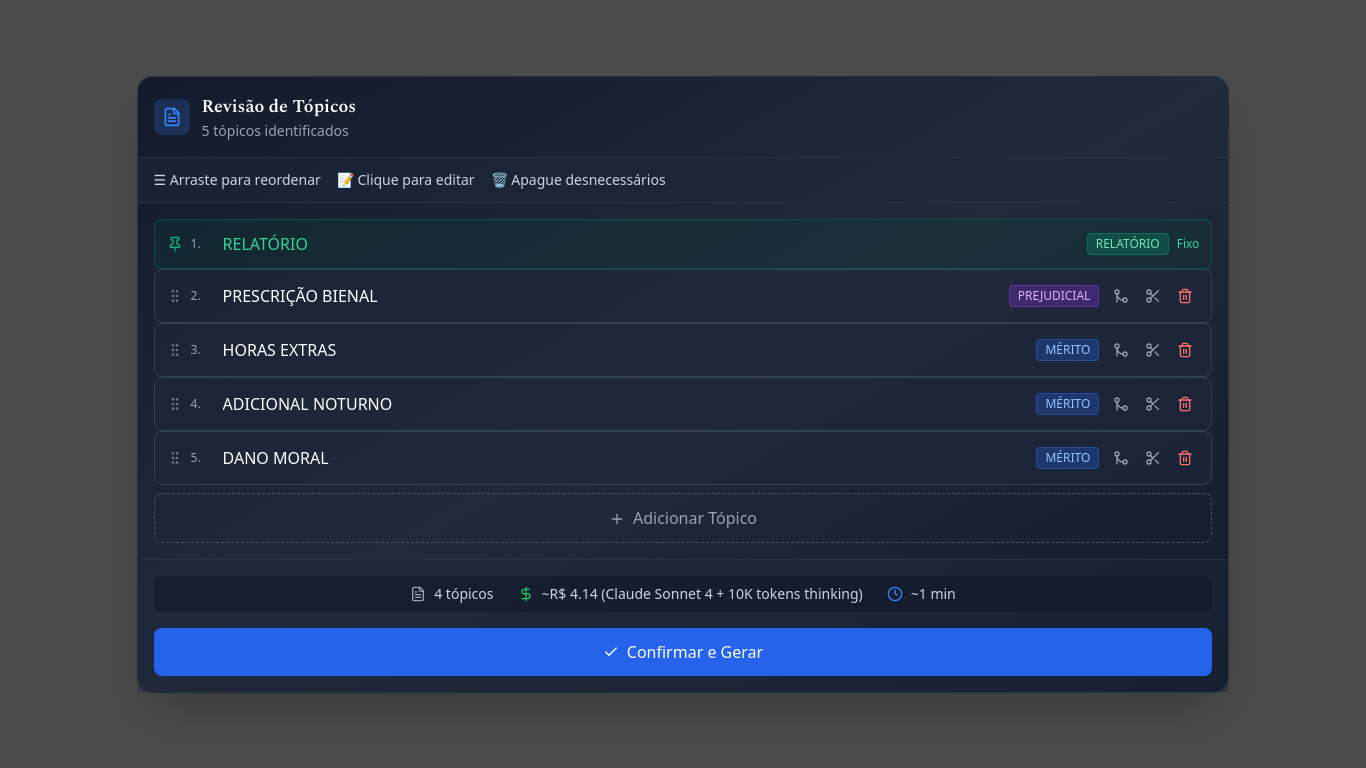
Scenario: TopicCurationModal - Mesclagem › deve abrir confirmação de merge ao clicar em mesclar
This screenshot has width=1366, height=768.
What coordinates should you click on to do the following:
click the button titled "Selecionar para mesclar" in the row of "HORAS EXTRAS"
I would click on:
 (1121, 350)
Its box is [1107,336,1135,364].
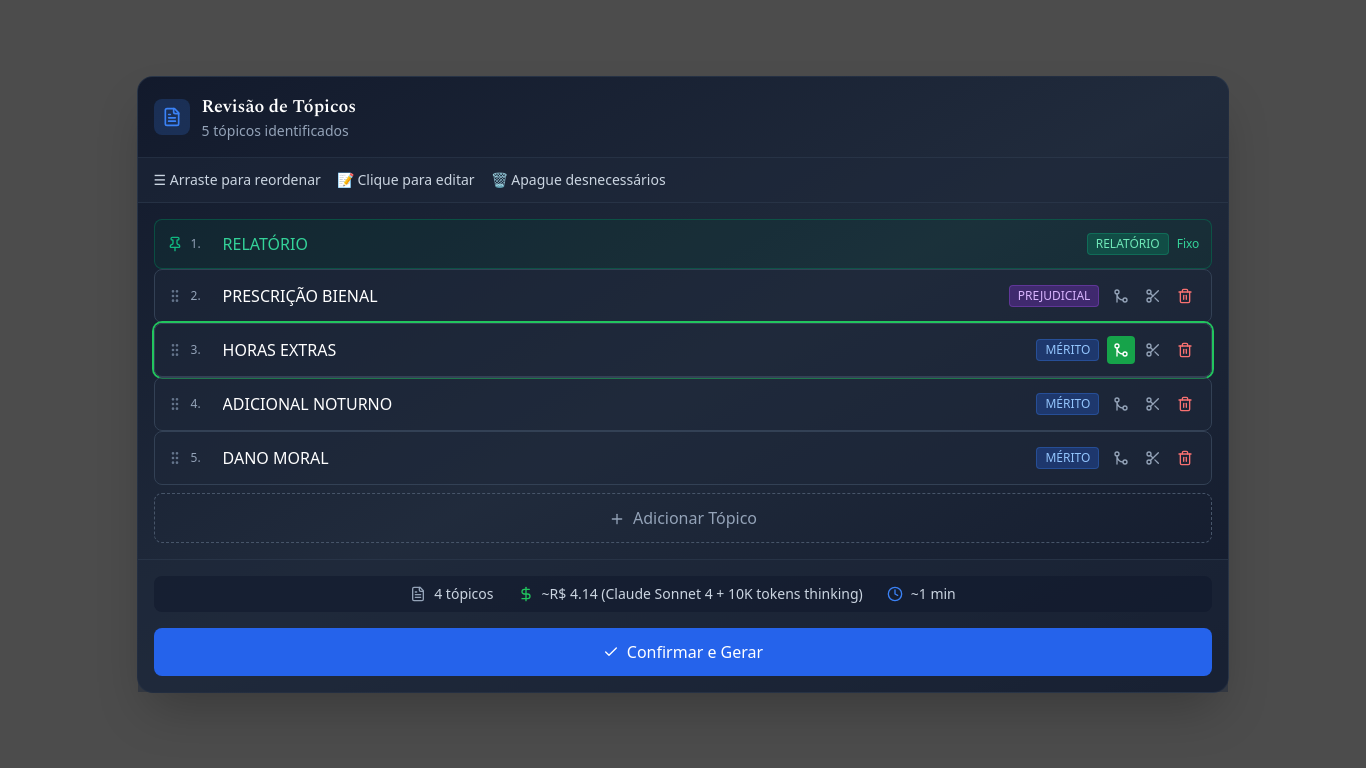
What coordinates should you click on to do the following:
click the button titled "Selecionar para mesclar" in the row of "ADICIONAL NOTURNO"
I would click on:
 (1121, 404)
Its box is [1107,390,1135,418].
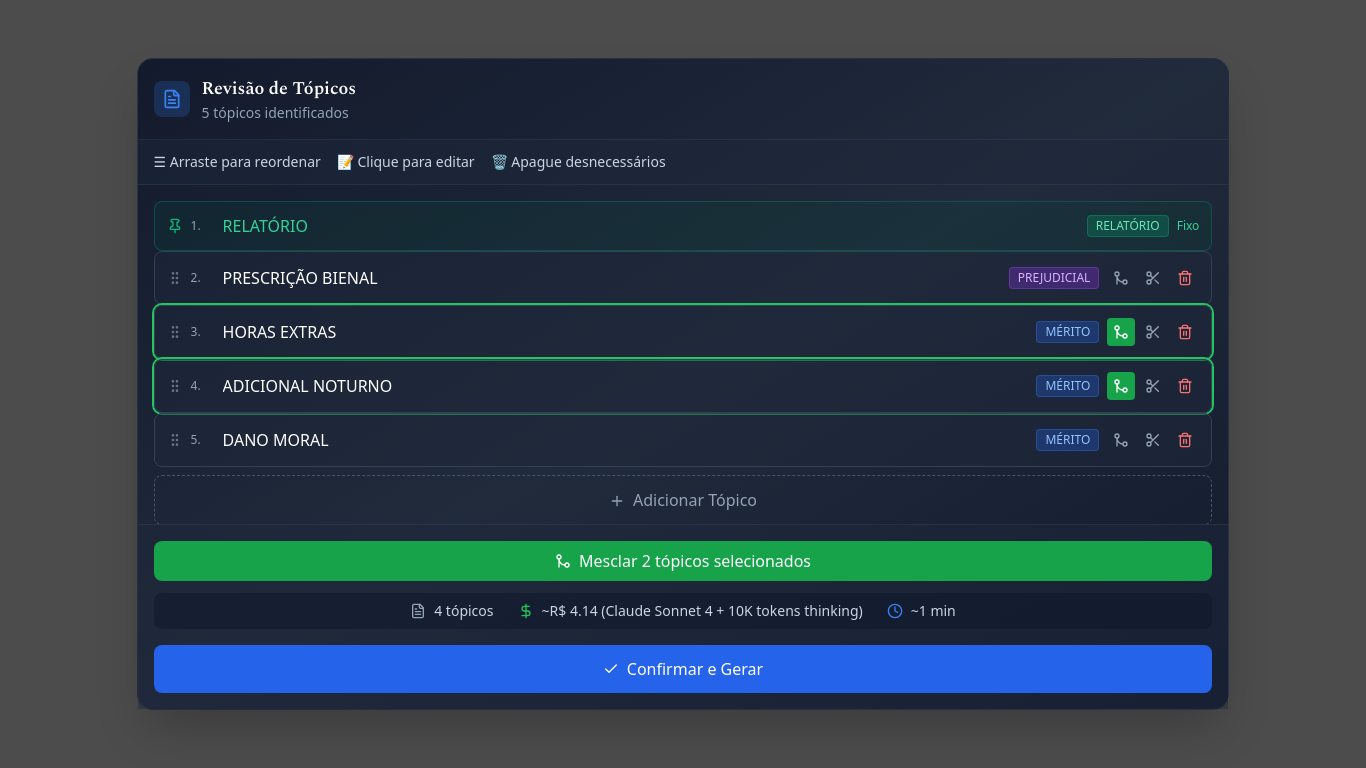
Result: the button "Mesclar 2 tópicos selecionados" is shown
Clicar no botão de mesclar
What coordinates should you click on to do the following:
click the button "Mesclar 2 tópicos selecionados"
I would click on:
 (683, 561)
Its box is [154,541,1212,581].
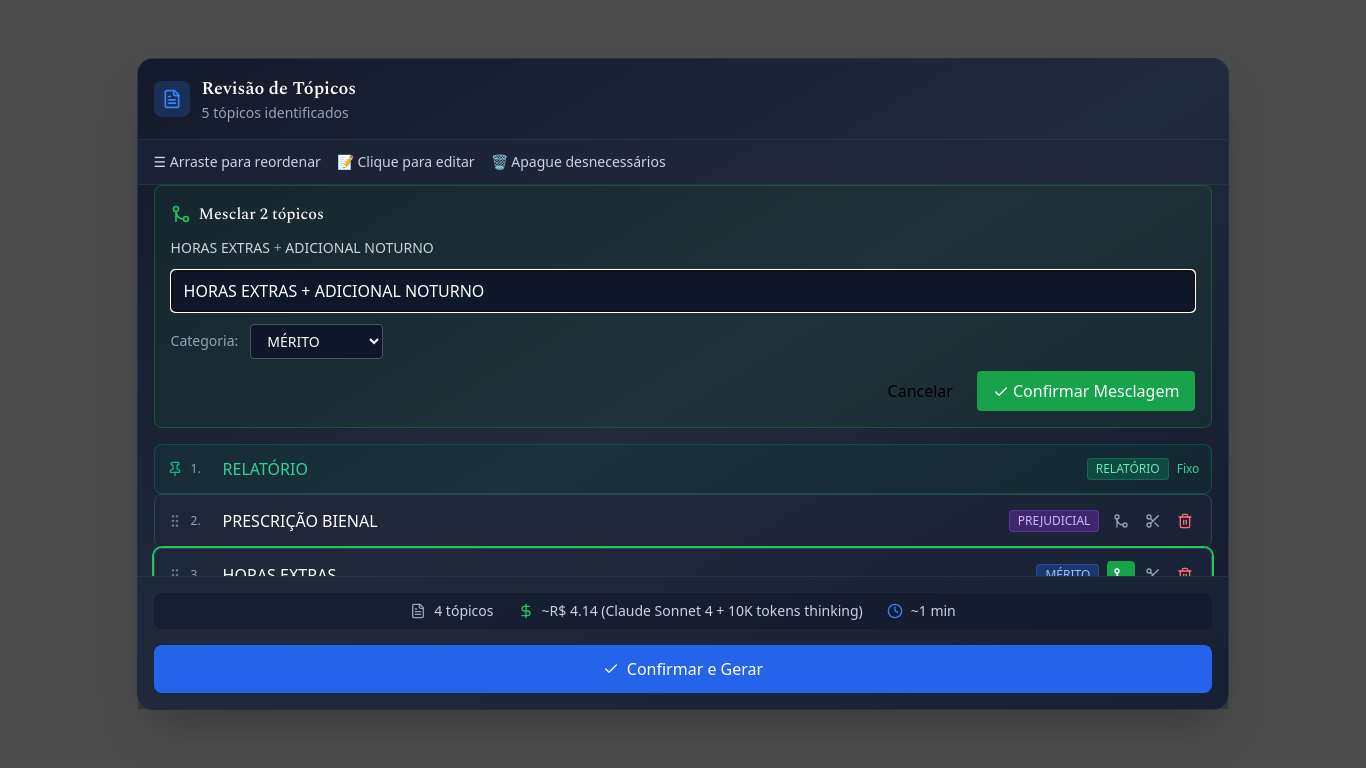
Result: the heading "Mesclar 2 tópicos" is shown at [199,202,324,226]
Result: the button "Confirmar Mesclagem" is shown at [977,371,1195,411]
